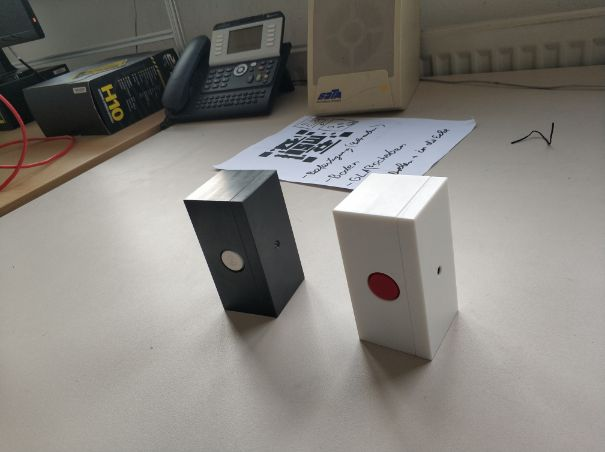black+black+silver: (181, 167, 308, 321)
white+white+red: (328, 172, 461, 362)
